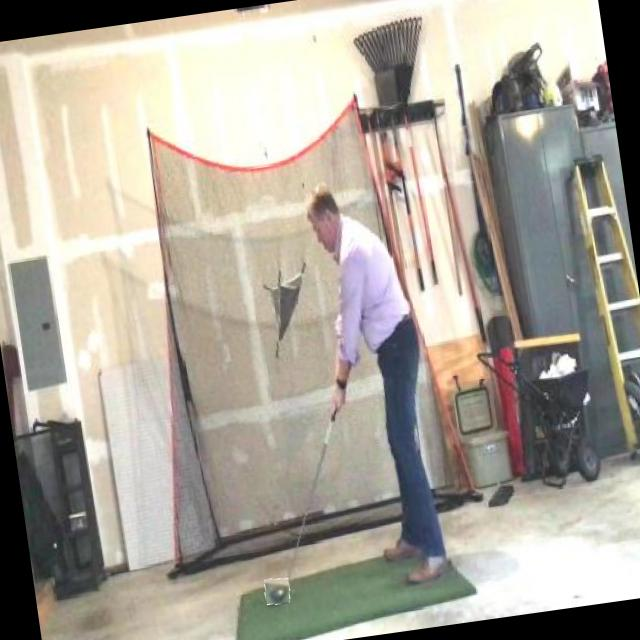club head: (264, 577, 291, 605)
